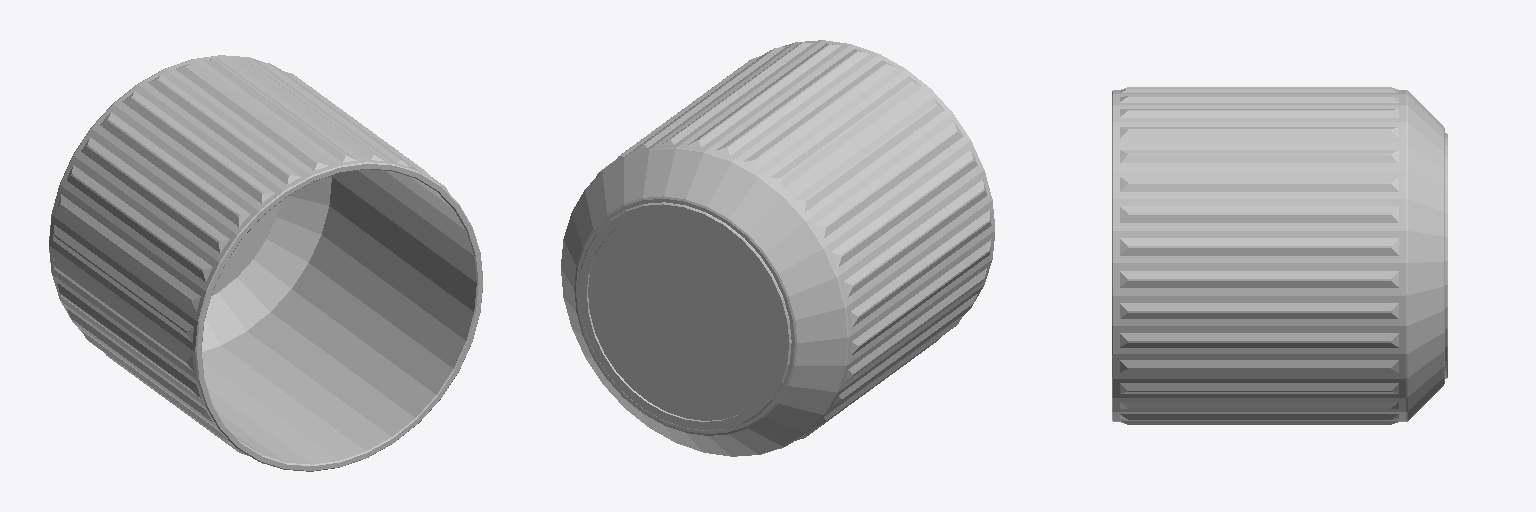
Rendered from jar.obj.
3 renders of one model, left to right at view 1: azimuth 30°, elevation 25°; view 2: azimuth 150°, elevation 25°; view 3: azimuth 270°, elevation 25°, orthographic.
Parts seen in each view (by area): view 1: Ceramic_pot_model; view 2: Ceramic_pot_model; view 3: Ceramic_pot_model.
Part boxes in pixels (x1,y1,x2,y2): Ceramic_pot_model: (49,55,482,471); Ceramic_pot_model: (561,40,994,456); Ceramic_pot_model: (1112,87,1447,424).
Bounding box in the file's own units: 0.1314 × 0.1314 × 0.131.